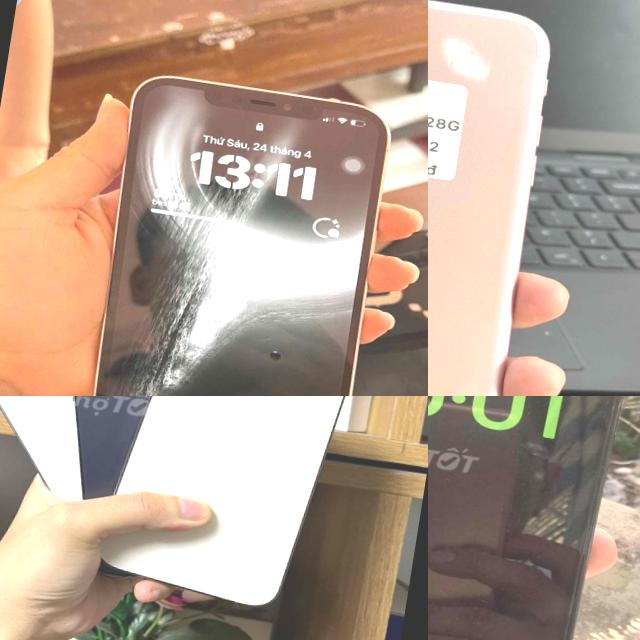gen_12_13: (64, 65, 428, 396)
gen_14: (89, 396, 369, 619), (428, 396, 640, 640)
gen_7_8: (428, 1, 549, 396)
